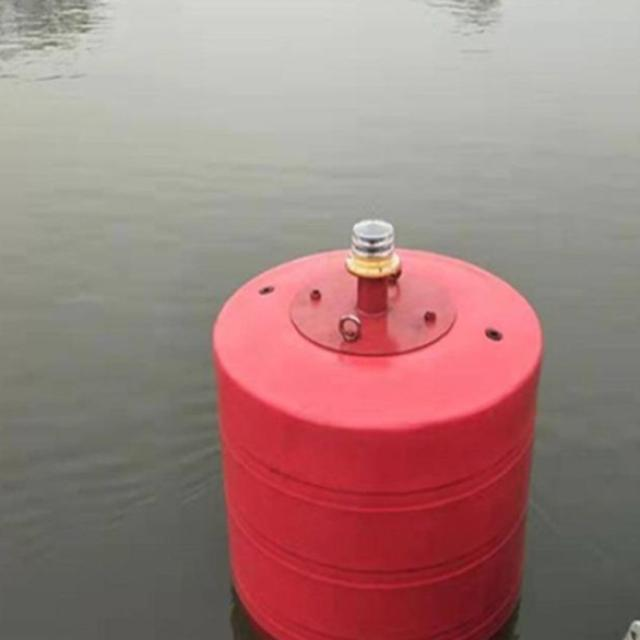buoy: (197, 214, 550, 640)
